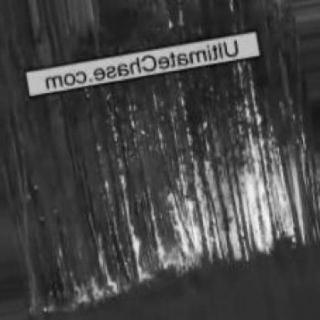Fire: (56, 66, 316, 310)
